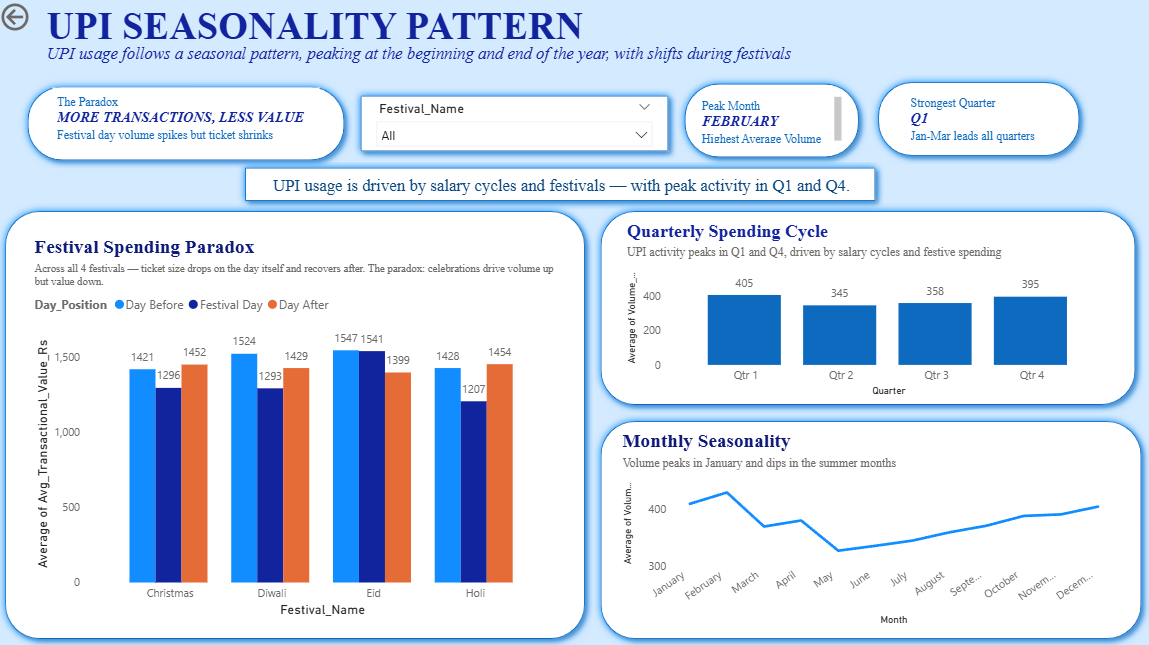

The page's visual inventory and layout, read from the dashboard file:
{"tool":"powerbi","page":{"name":"Seasonal ","canvas":[1280,720],"ordinal":4},"visuals":[{"type":"shape","box":[395,98.3,360,80],"z":0},{"type":"shape","box":[25,88.3,370,100],"z":1000},{"type":"shape","box":[970,83.3,241.7,100],"z":2000},{"type":"shape","box":[755,85,211.7,100],"z":3000},{"type":"shape","box":[0,226.7,662.2,493.3],"z":4000},{"type":"shape","box":[661.1,226.7,612.2,233.3],"z":5000},{"type":"shape","box":[661.1,460,618.9,260],"z":6000},{"type":"lineChart","title":"Monthly Seasonality","fields":{"Category":["Daily_Statistics.Date.Variation.Date Hierarchy.Month"],"Y":["Avg(Daily_Statistics.Volume_Mn)"]},"box":[690,477.8,554.4,222.2],"z":7000},{"type":"clusteredColumnChart","title":"Quarterly Spending Cycle","fields":{"Category":["Daily_Statistics.Date.Variation.Date Hierarchy.Quarter"],"Y":["Avg(Daily_Statistics.Volume_Mn)"]},"box":[695.6,246.7,544.4,198.9],"z":8000},{"type":"actionButton","box":[0,0,100,40],"z":9000},{"type":"clusteredColumnChart","title":"Festival Spending Paradox","fields":{"Category":["festival_paradox.Festival_Name"],"Y":["Avg(festival_paradox.Avg_Transactional_Value_Rs)"],"Series":["festival_paradox.Day_Position"]},"box":[36,264,590,428],"z":10000},{"type":"textbox","title":"SEASONALITY","box":[50,0,681.7,70],"z":11000},{"type":"textbox","box":[50,45,888.3,33.3],"z":12000},{"type":"textbox","box":[778.3,103.3,165,61.7],"z":13000},{"type":"textbox","box":[1010,100,163.3,71.7],"z":14000},{"type":"textbox","box":[61.7,98.3,296.7,76.7],"z":15000},{"type":"slicer","fields":{"Values":["festival_paradox.Festival_Name"]},"box":[411.7,108.3,326.7,55],"z":16000},{"type":"shape","box":[266.7,178.3,718.3,55],"z":17000},{"type":"textbox","box":[301.7,191.7,666.7,41.7],"z":18000}]}

Visuals, with their boxes in screenshot pixels (x1, y1, x2, y2), scaled from the page's 1280x720 canvas onto the 1149x645 screenshot:
shape: 355, 88, 678, 160
shape: 22, 79, 355, 169
shape: 871, 75, 1088, 164
shape: 678, 76, 868, 166
shape: 0, 203, 594, 644
shape: 593, 203, 1143, 412
shape: 593, 412, 1148, 644
"Monthly Seasonality" lineChart: 619, 428, 1117, 627
"Quarterly Spending Cycle" clusteredColumnChart: 624, 221, 1113, 399
actionButton: 0, 0, 90, 36
"Festival Spending Paradox" clusteredColumnChart: 32, 236, 562, 620
"SEASONALITY" textbox: 45, 0, 657, 63
textbox: 45, 40, 842, 70
textbox: 699, 93, 847, 148
textbox: 907, 90, 1053, 154
textbox: 55, 88, 322, 157
slicer - festival_paradox.Festival_Name: 370, 97, 663, 146
shape: 239, 160, 884, 209
textbox: 271, 172, 869, 209
